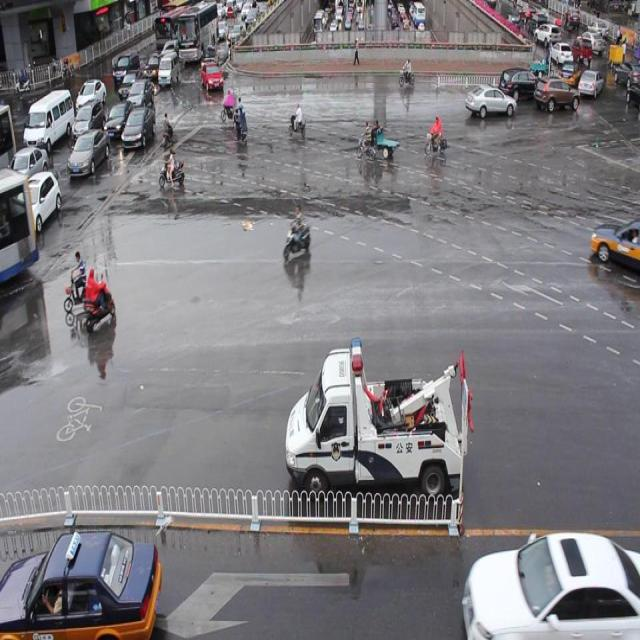bus: (285, 338, 464, 498)
car: (588, 216, 640, 270), (465, 83, 516, 118), (534, 75, 580, 111), (499, 68, 541, 101)
